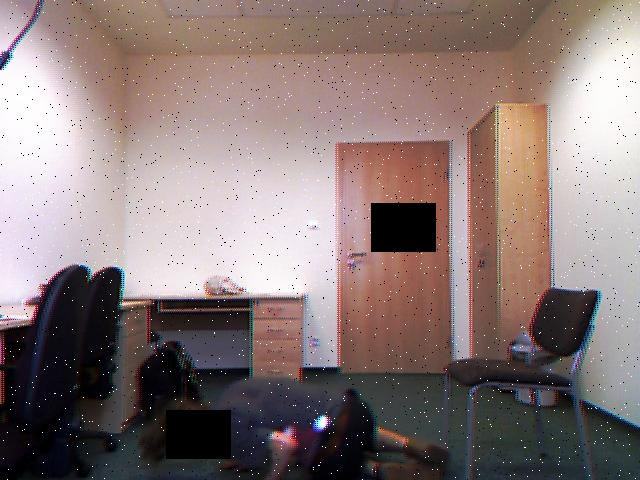fall: (133, 377, 461, 480)
